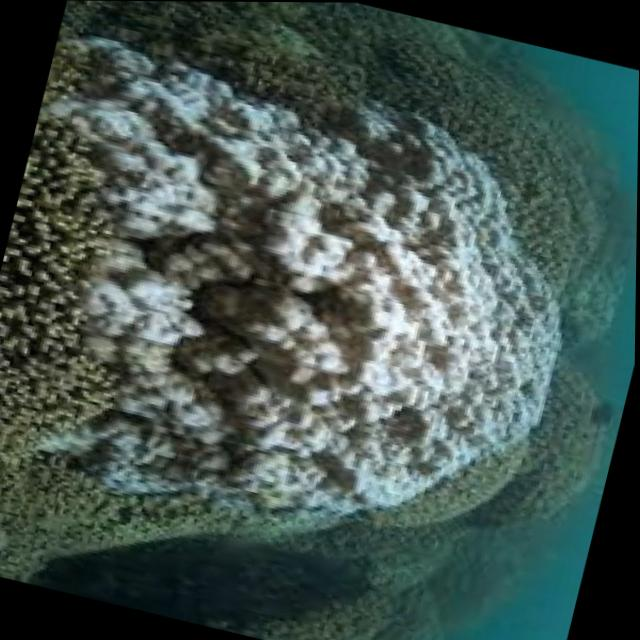Dead Coral: (96, 1, 509, 141), (0, 110, 113, 504)
